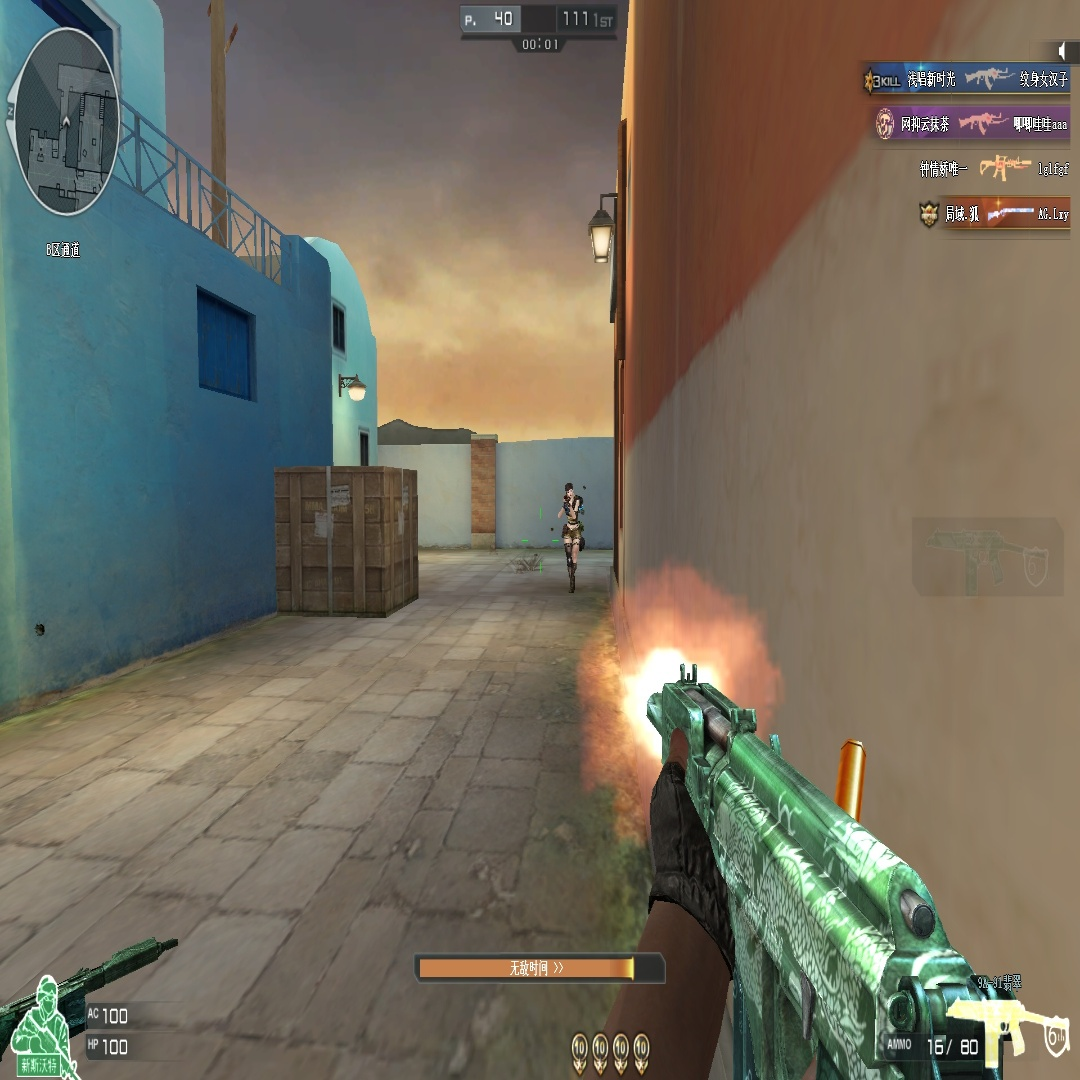p: (553, 480, 583, 570)
